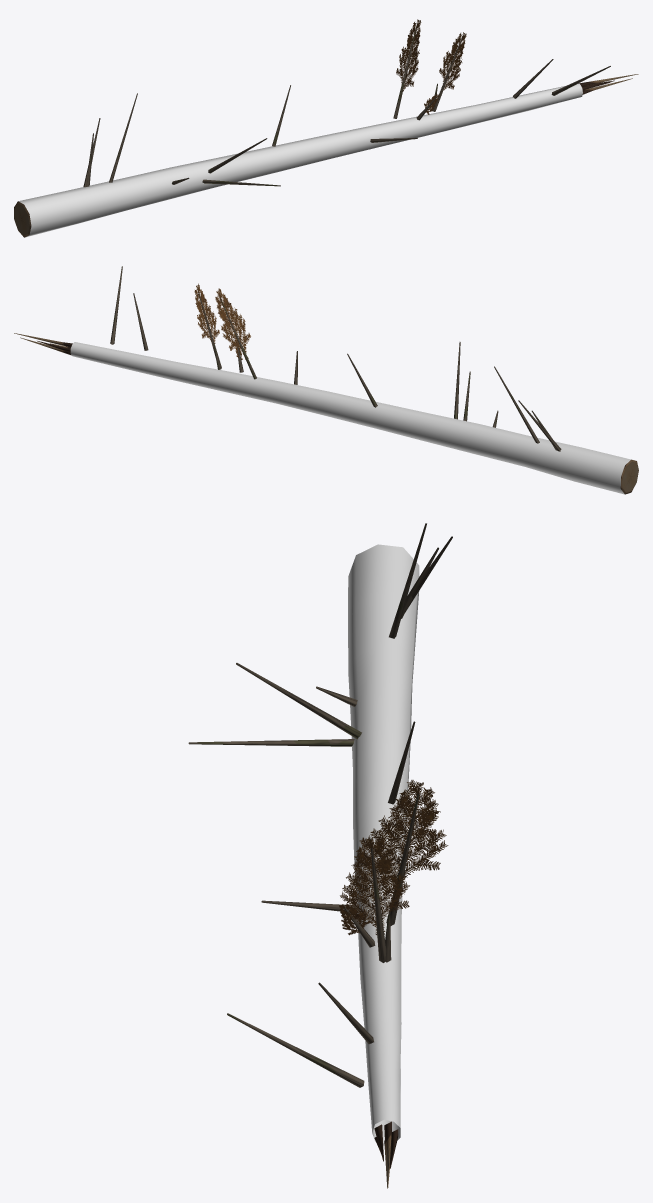
The model's file is S7U_FallenSpruce_B.fbx.
3 renders of one model, top to bottom at view 1: azimuth 30°, elevation 25°; view 2: azimuth 150°, elevation 25°; view 3: azimuth 270°, elevation 25°, orthographic. The views are drawn at different scales.
Visible parts, largest first — view 1: S7U_FallenSpruce_B; view 2: S7U_FallenSpruce_B; view 3: S7U_FallenSpruce_B.
Part boxes in pixels (x1,y1,x2,y2): S7U_FallenSpruce_B: (14, 19, 638, 237); S7U_FallenSpruce_B: (14, 266, 638, 494); S7U_FallenSpruce_B: (188, 523, 452, 1188).
Bounding box in the file's own units: 9.98 × 1.78 × 1.94.
